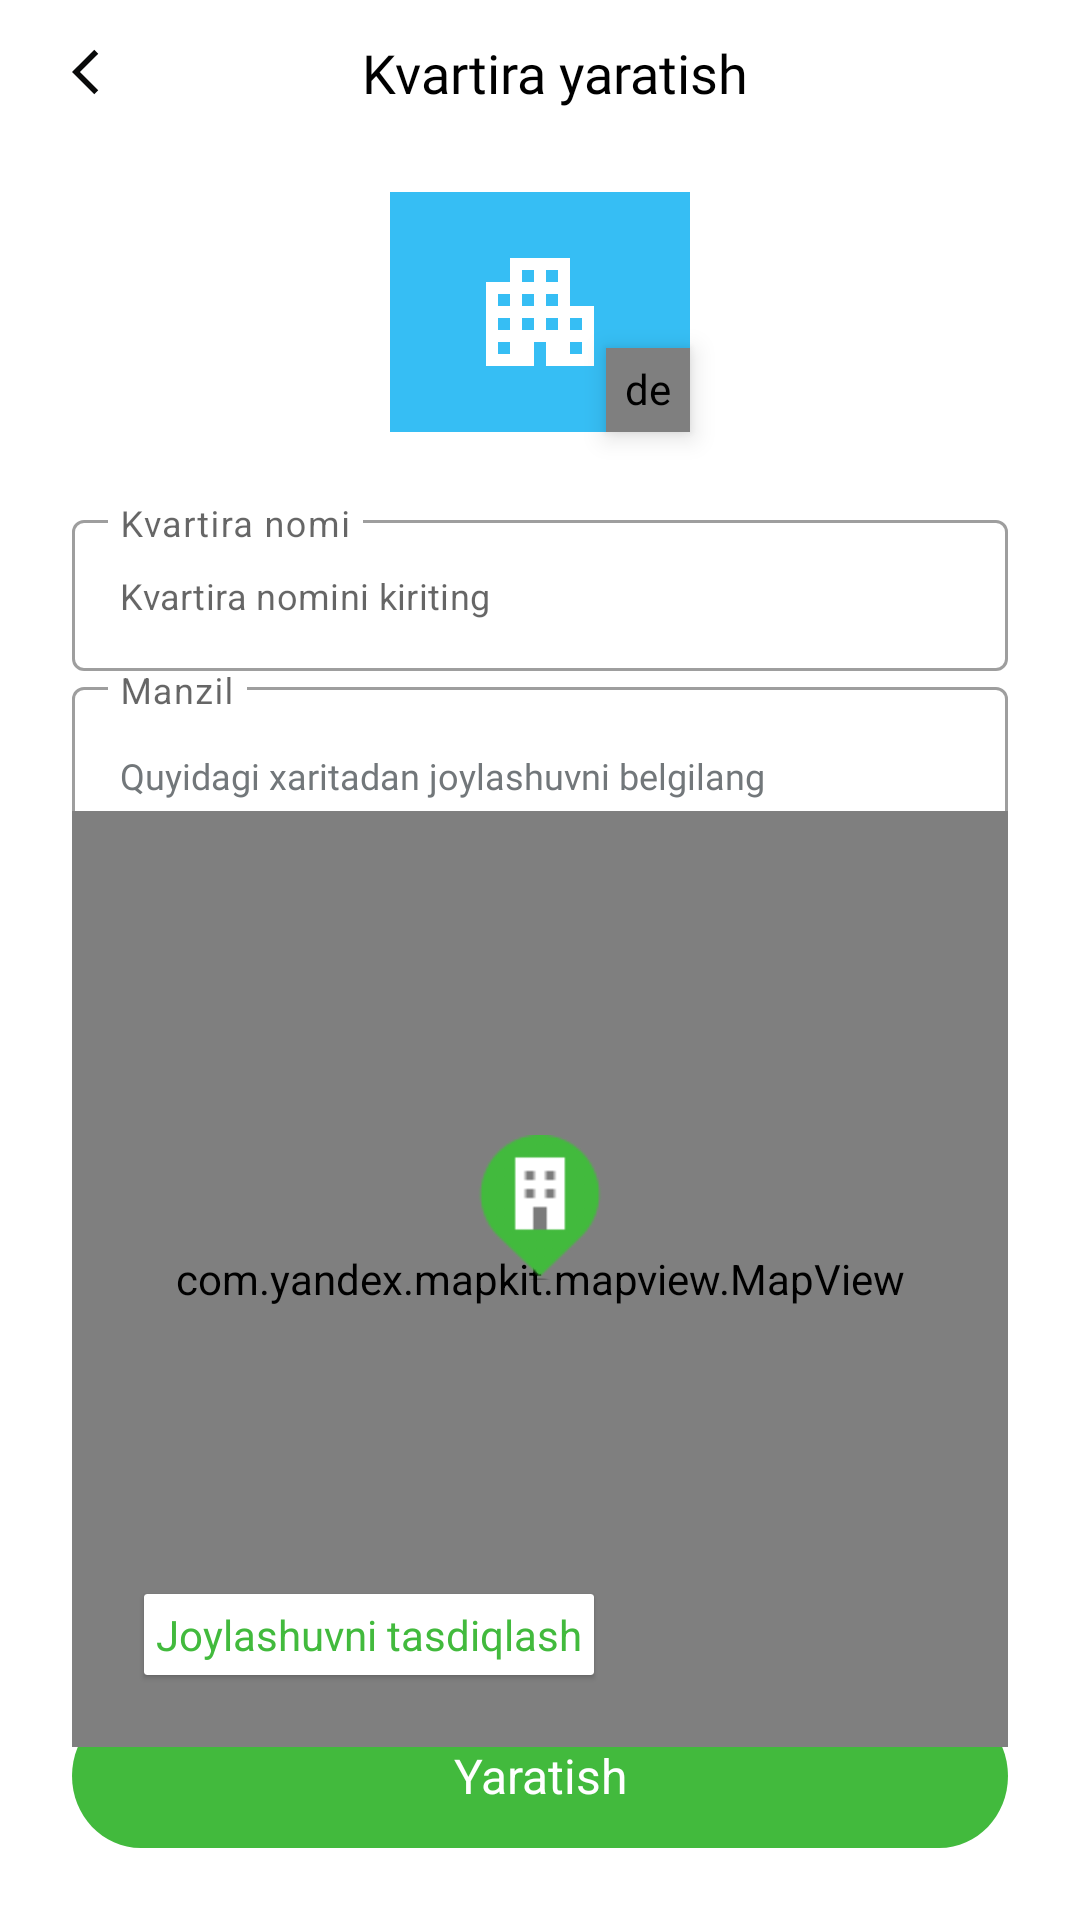

Screen size 1080w x 1920h. Icon name, then its center in pixels as (x,y):
back: (85,72)
